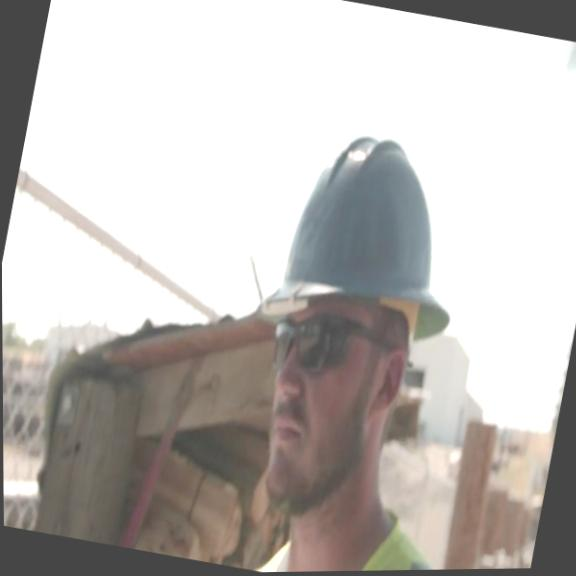safety_vest: (246, 483, 494, 572)
